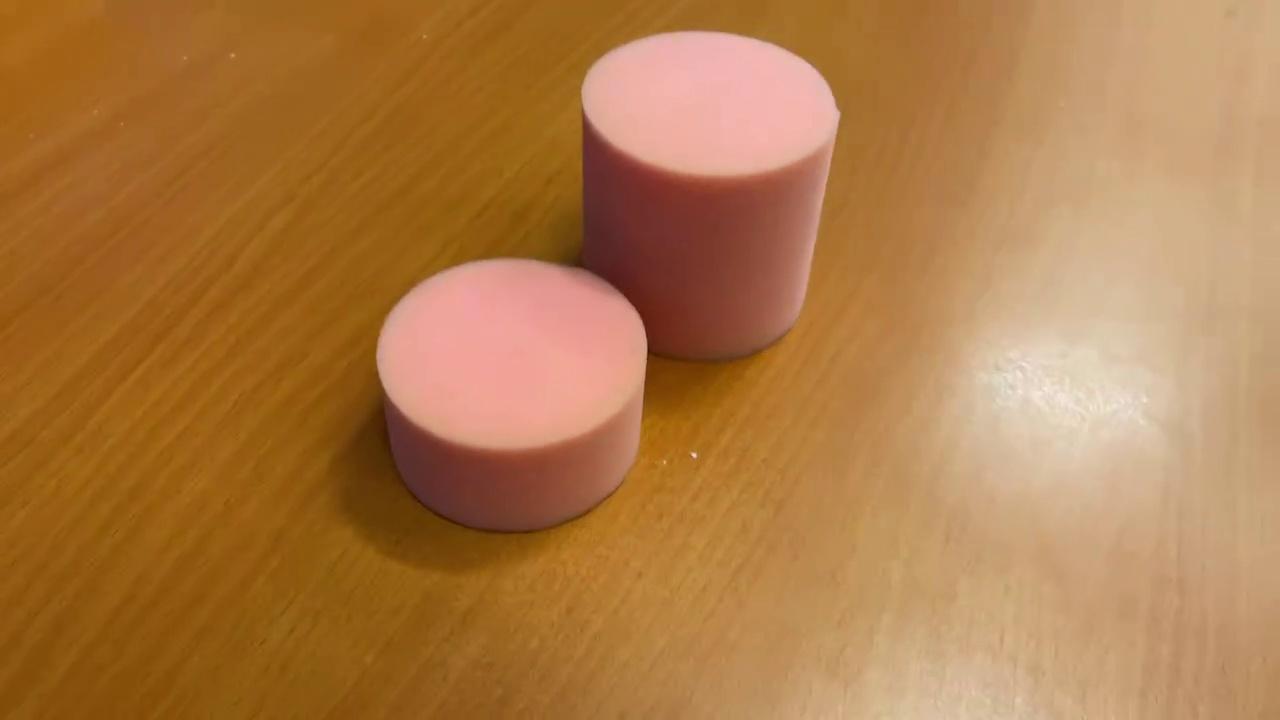Clyinder_short: (364, 255, 657, 536)
Cylinder: (574, 24, 846, 370)
